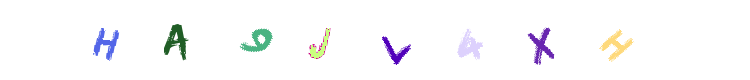4: (357, 0, 437, 80)
9: (205, 0, 285, 80)
A: (136, 0, 216, 80)
H: (74, 0, 154, 80), (470, 0, 550, 80)
J: (315, 0, 395, 80)
L: (336, 0, 416, 80)
X: (434, 0, 514, 80)
